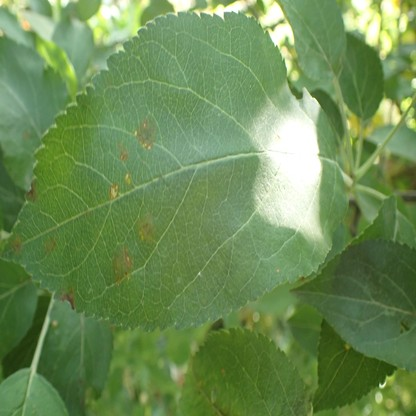scab: (112, 247, 133, 282), (137, 212, 157, 246), (134, 118, 154, 150), (58, 284, 73, 312), (26, 180, 38, 203), (43, 237, 57, 255), (118, 139, 129, 160), (11, 235, 23, 253), (109, 183, 118, 201), (124, 172, 132, 186)
